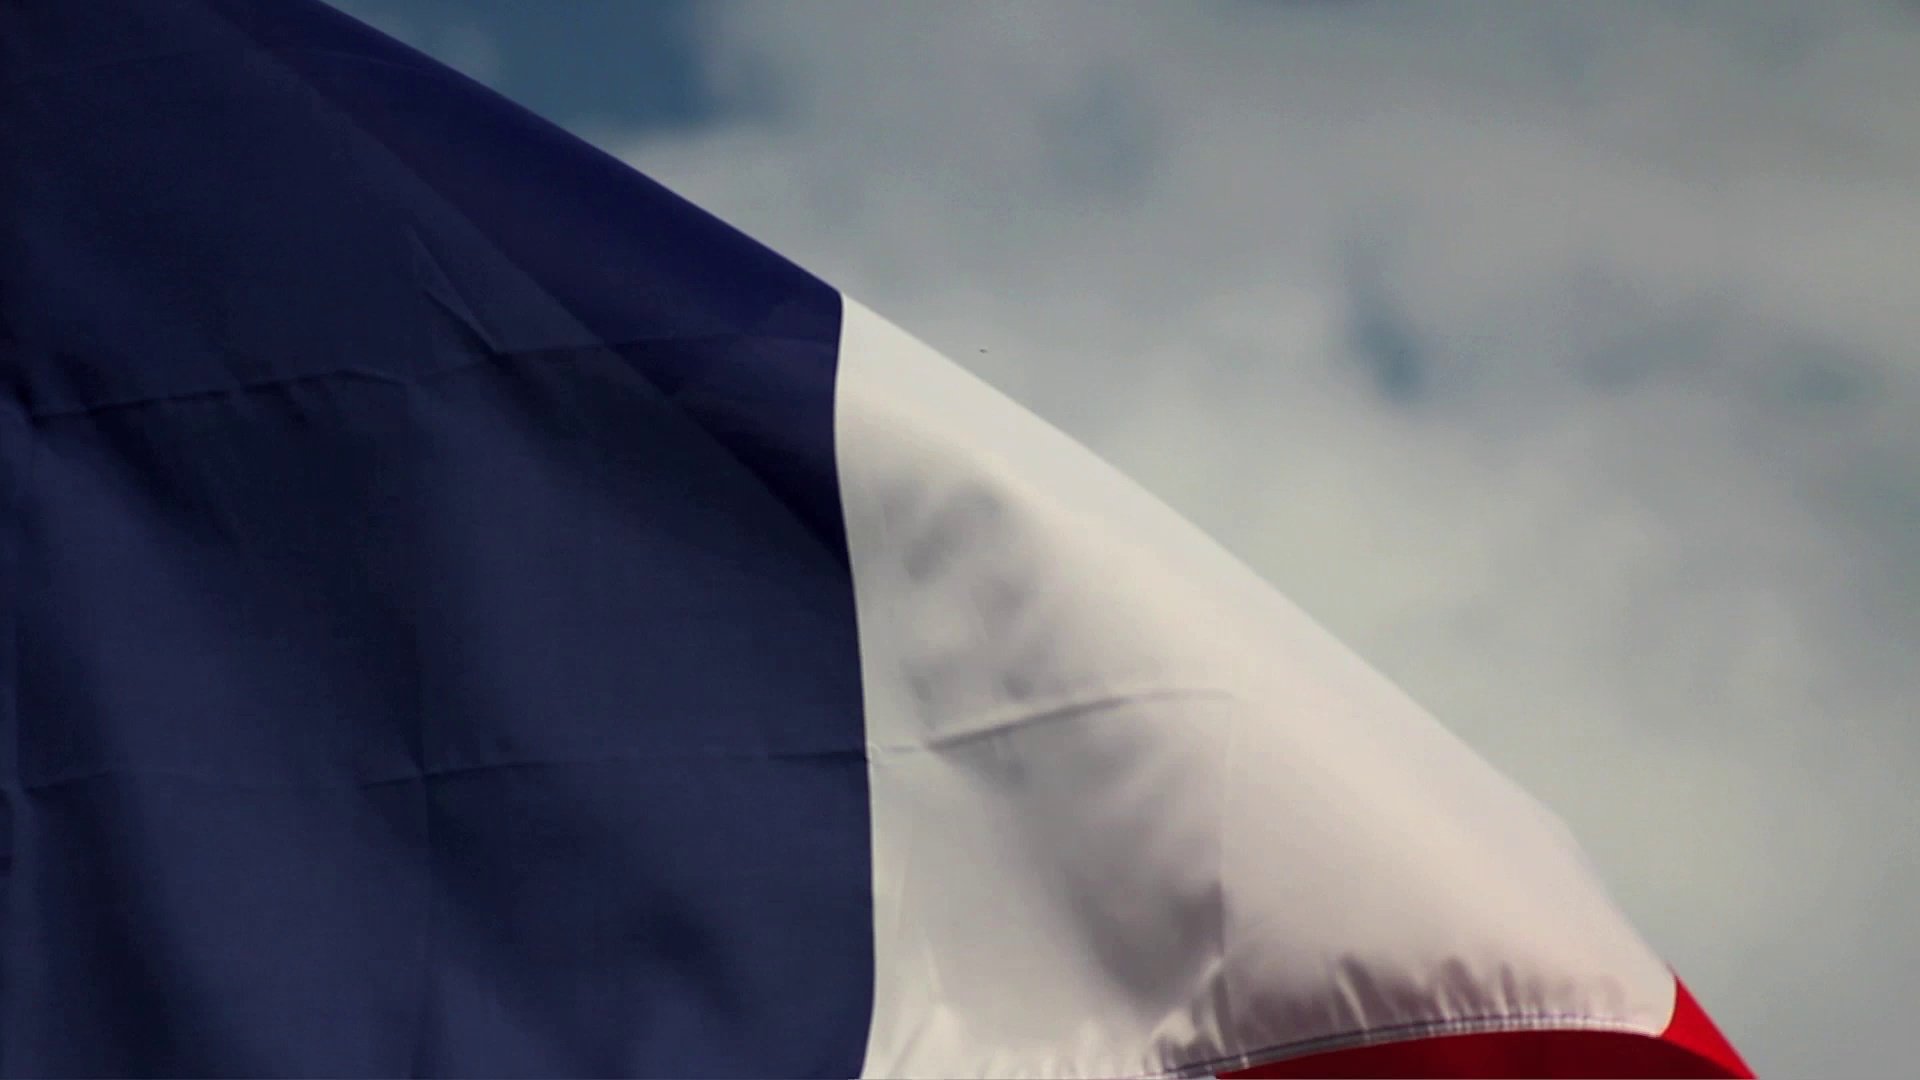French Flag: (1, 1, 1763, 1080)
